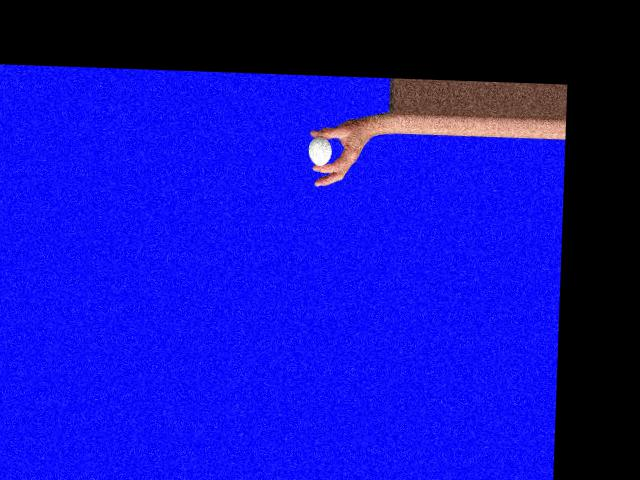egg: (307, 135, 331, 166)
